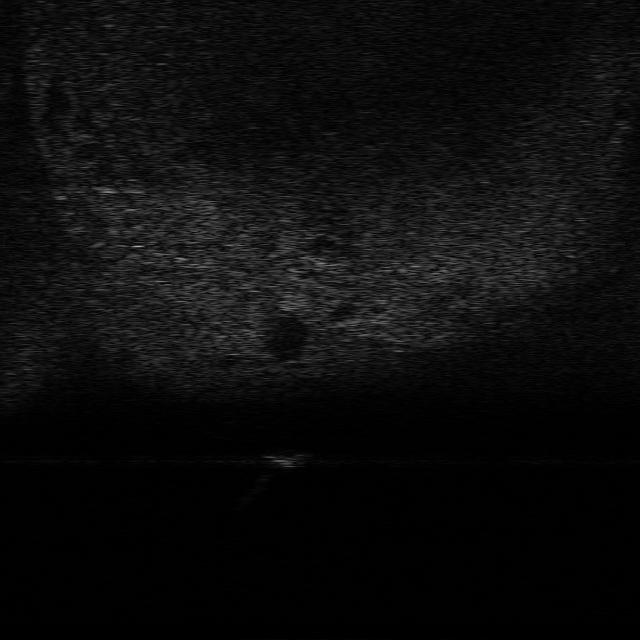cube: (261, 447, 314, 469)
